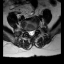CCS_normal: (30, 28, 32, 38)
LFS_normal: (35, 24, 37, 33)
LLS_normal: (32, 27, 35, 36)
RFS_stenosis: (25, 27, 28, 34)
RLS_normal: (28, 28, 30, 37)
